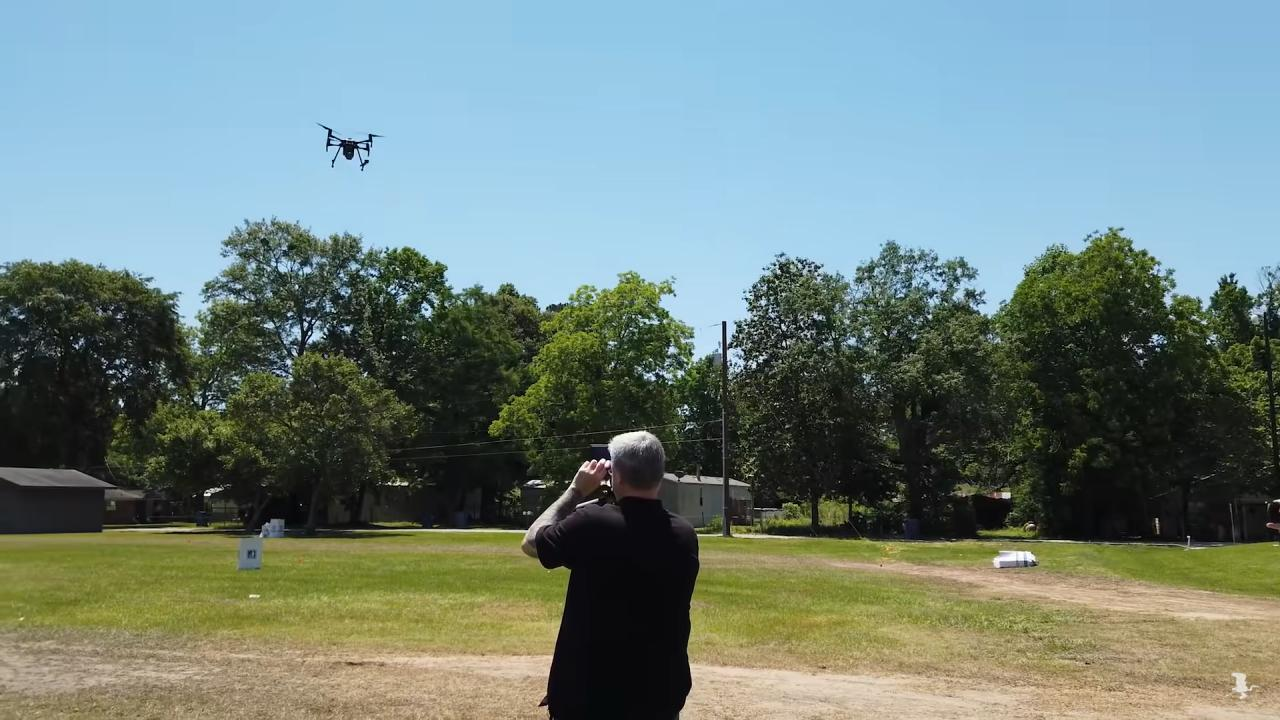Drone: (298, 115, 394, 182)
